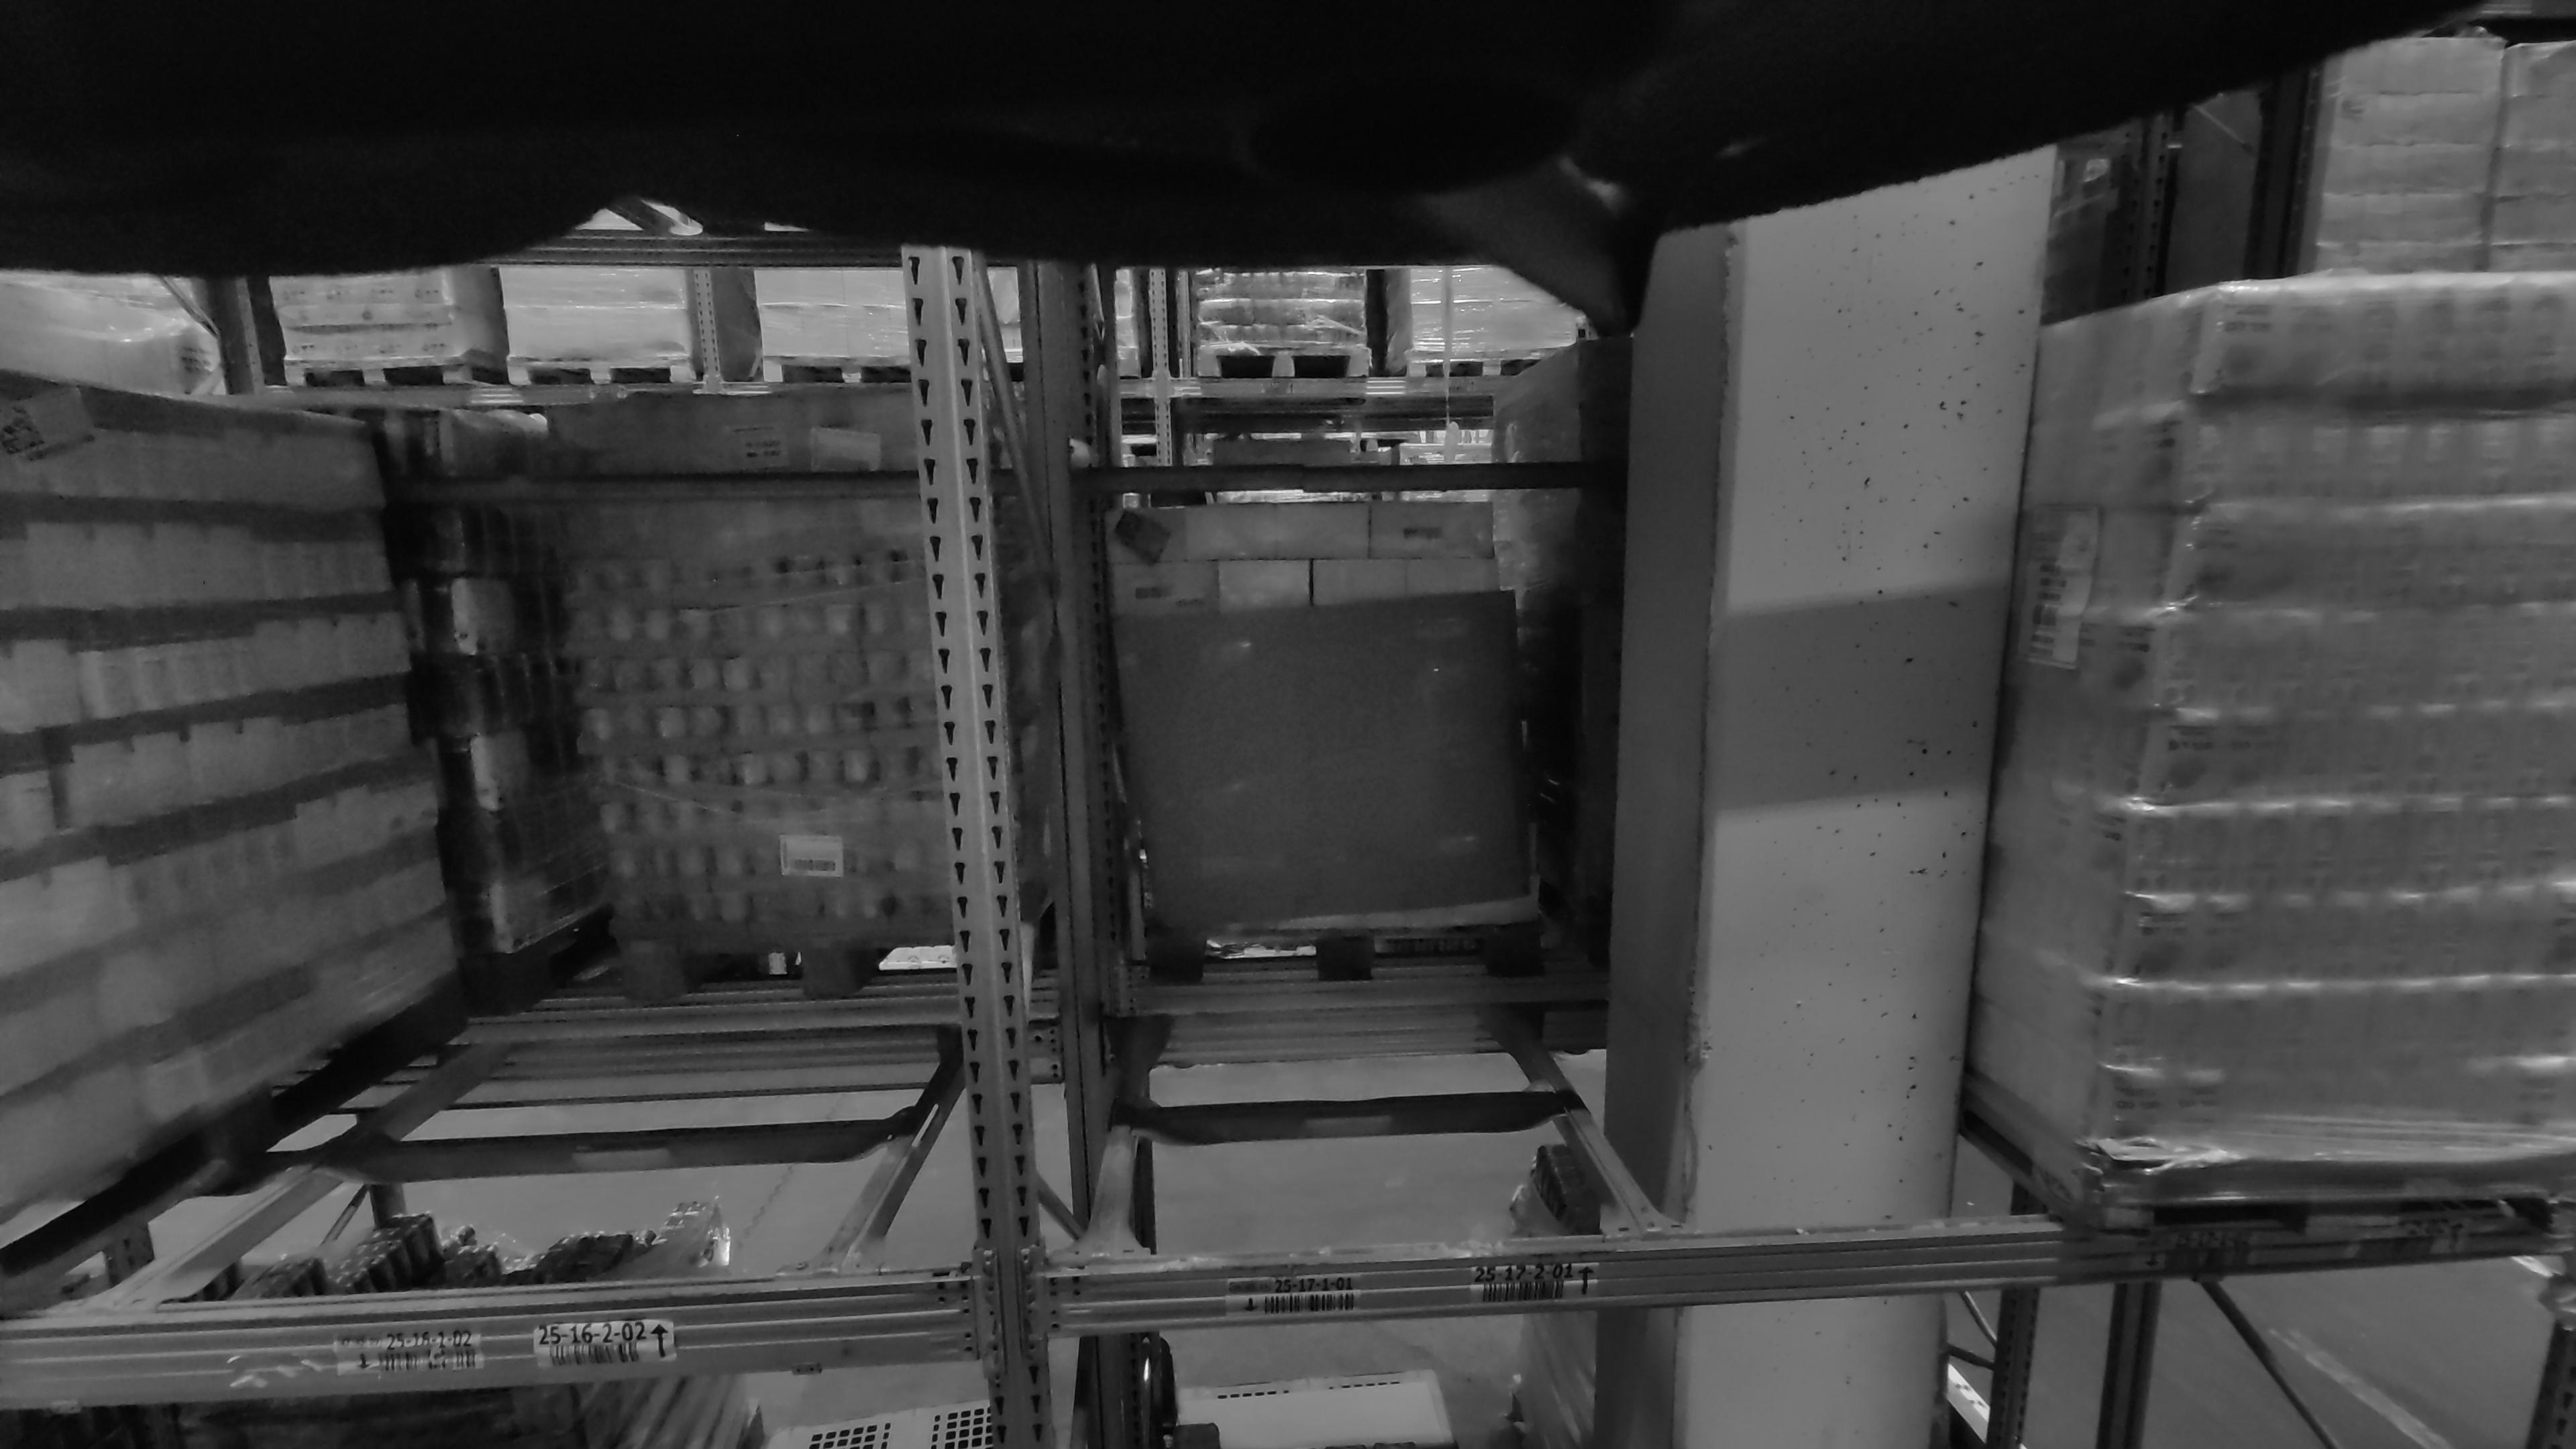empty-shelf: (288, 294, 837, 1272), (1108, 269, 1647, 1244)
